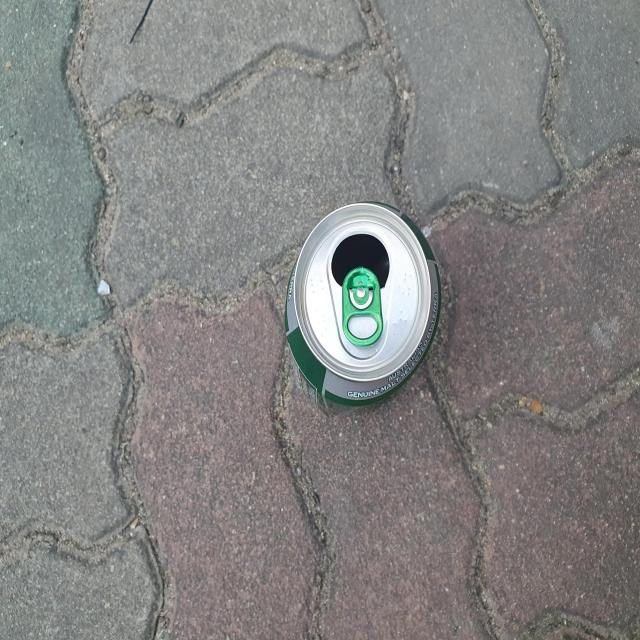can: (285, 202, 442, 413)
